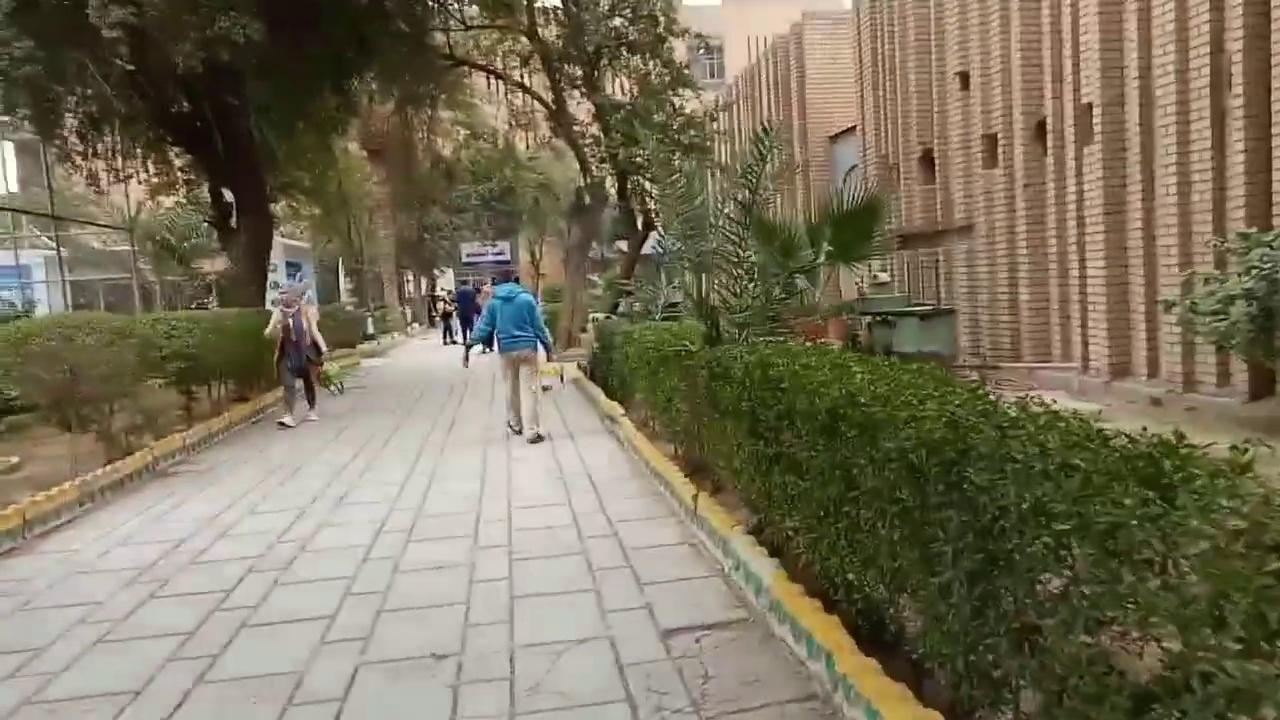person: (468, 266, 554, 444), (263, 280, 329, 427), (439, 288, 458, 345)
tree: (2, 0, 454, 312), (423, 0, 719, 351), (654, 118, 889, 346), (1155, 222, 1279, 401), (708, 120, 789, 342), (801, 162, 890, 341)
